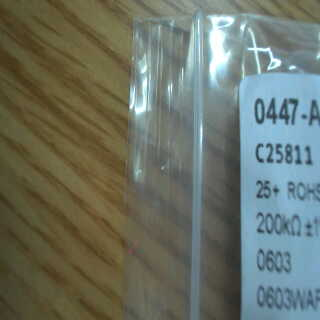200kR: (249, 209, 304, 240)
